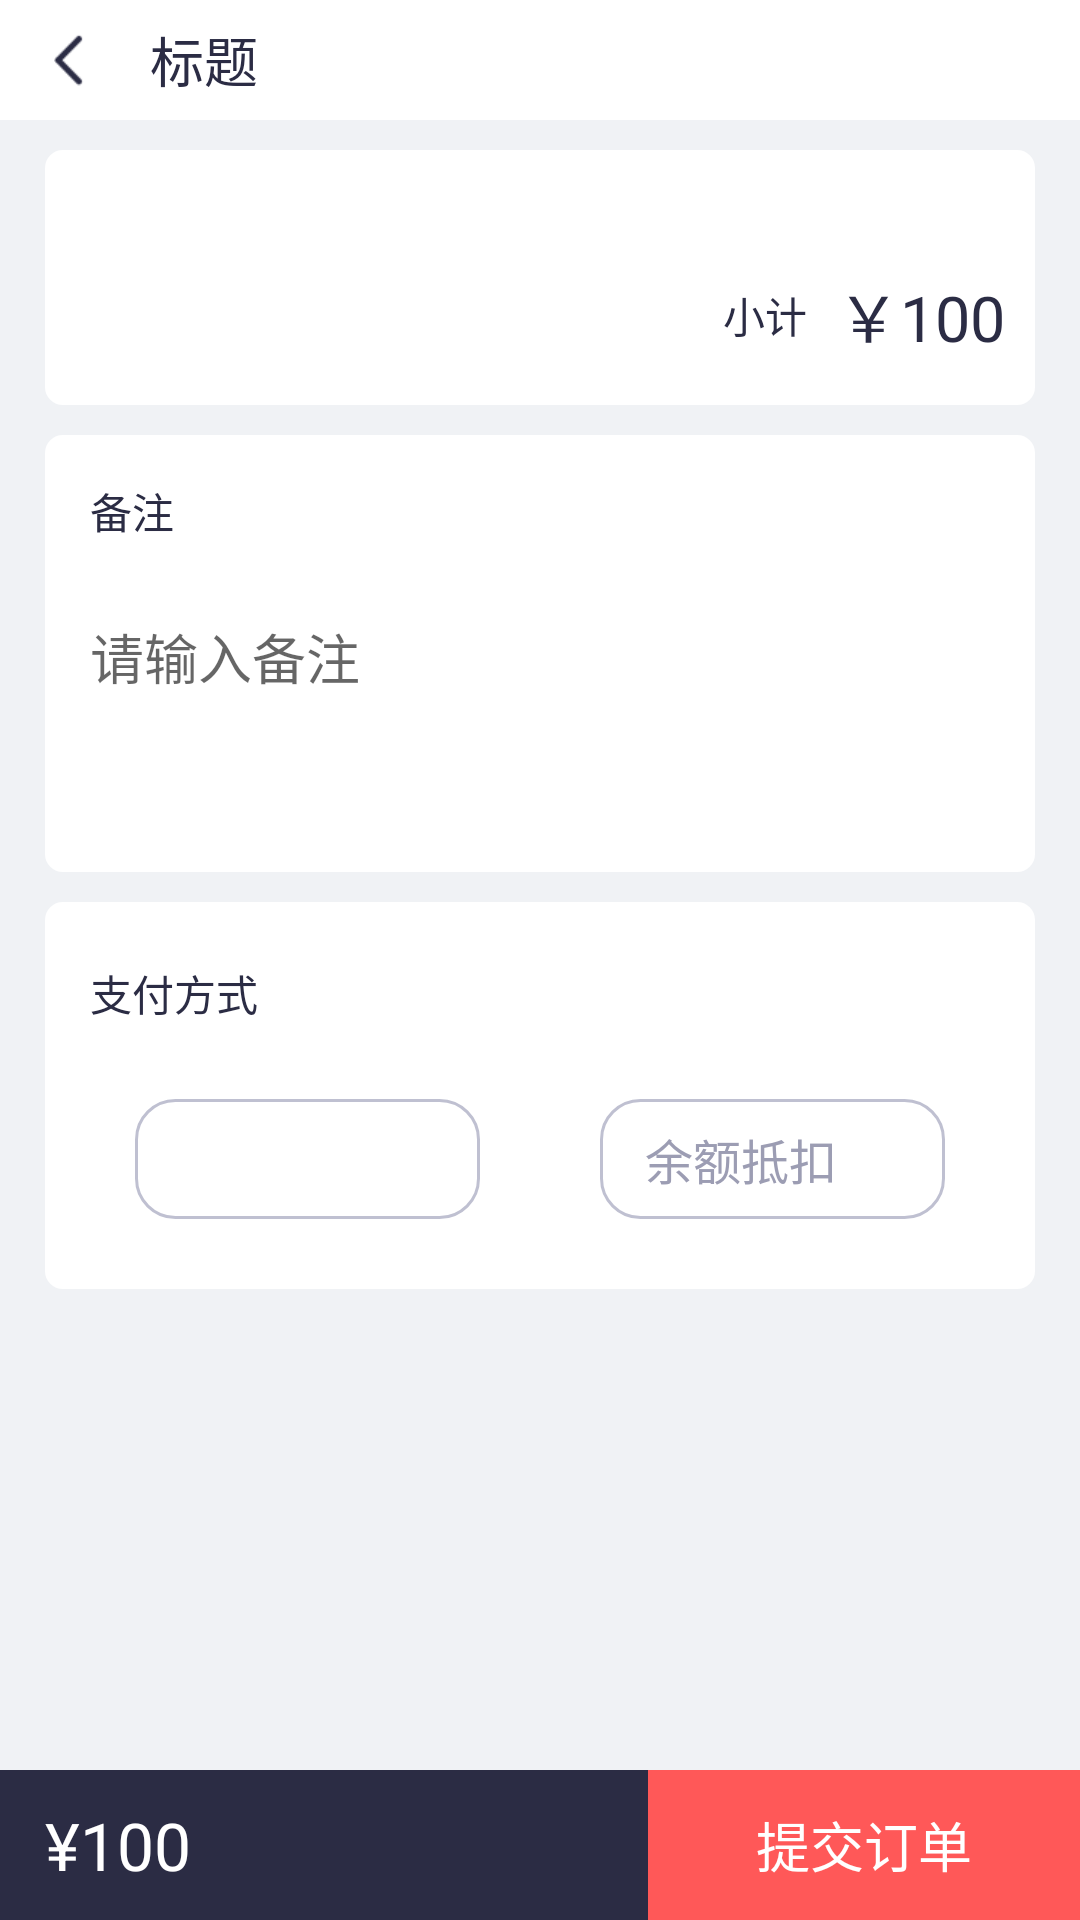

Screen size 1080 x 1920. Icon name, then its center in pixels as [x,y]:
return: [68,60]
